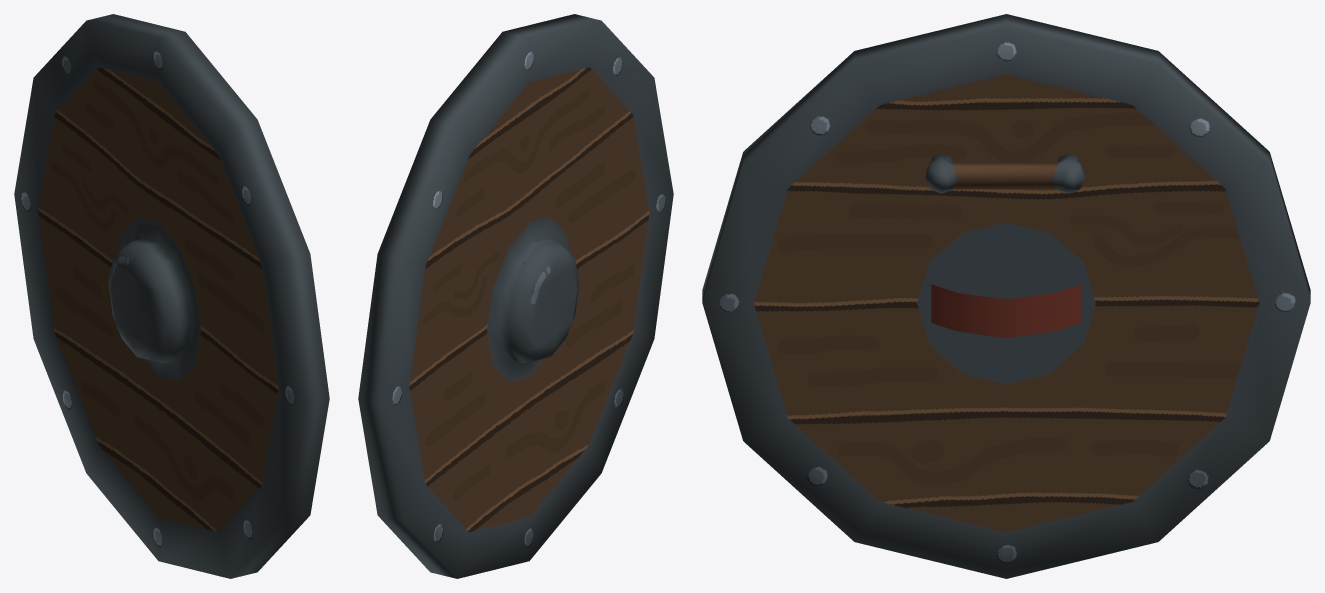
The model's file is Shield.fbx.
3 views of the same model, side by side, from view 1: azimuth 30°, elevation 25°; view 2: azimuth 150°, elevation 25°; view 3: azimuth 270°, elevation 25° (orthographic). The views are drawn at different scales.
Parts seen in each view (by area): view 1: Circle.005; view 2: Circle.005; view 3: Circle.005.
Part boxes in pixels (x1,y1,x2,y2): Circle.005: (14, 14, 329, 578); Circle.005: (358, 14, 673, 578); Circle.005: (702, 14, 1310, 578).
Size of the model in its own units: 0.4708 by 2.68 by 2.68.
